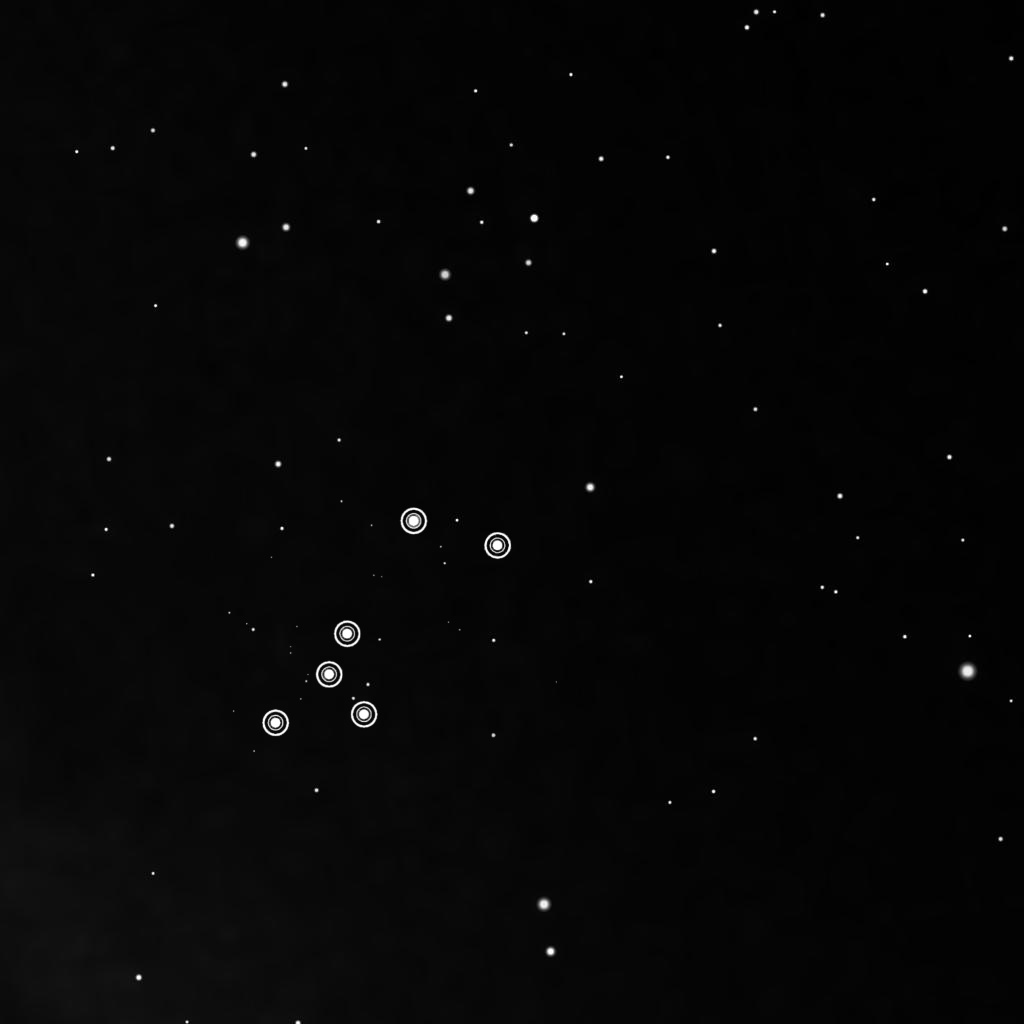canis_major: (254, 500, 519, 746)
